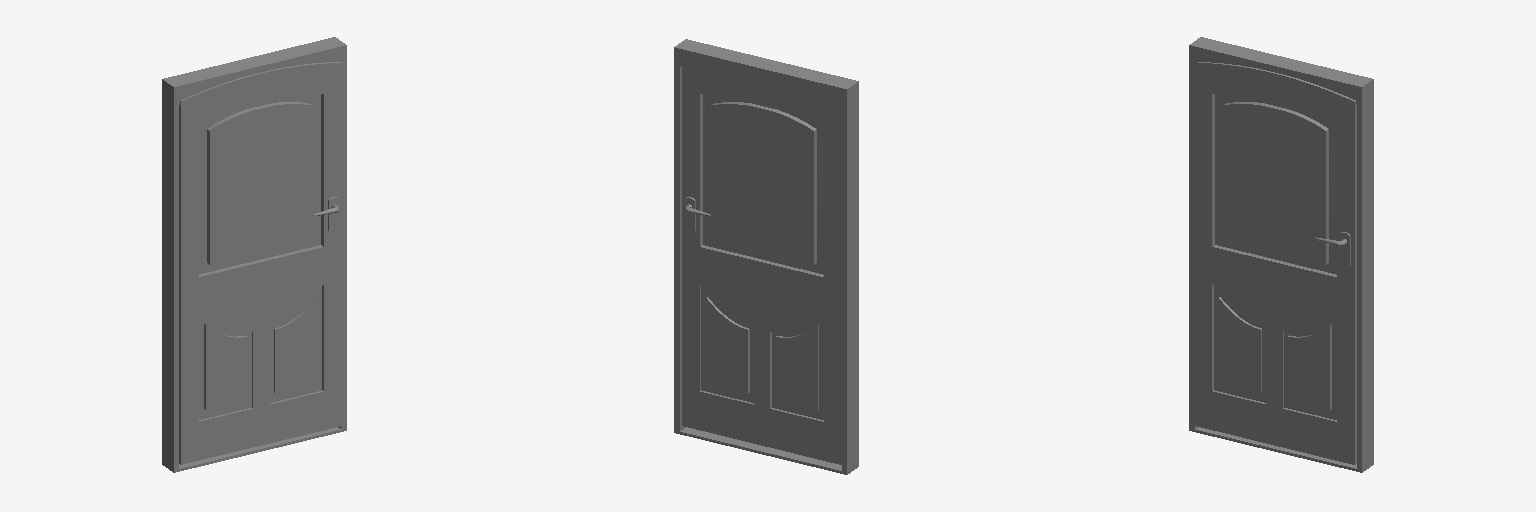
File: door_in.obj
The picture shows the model from 3 angles: view 1: azimuth 30°, elevation 25°; view 2: azimuth 150°, elevation 25°; view 3: azimuth 330°, elevation 25°; orthographic projection.
Parts seen in each view (by area): view 1: door, 7al2; view 2: door, 7al2; view 3: door, 7al2.
Boxes of the visible parts, x1,y1,x2,y2 form: door: [179, 62, 341, 464]; 7al2: [162, 37, 346, 472]; door: [682, 67, 841, 464]; 7al2: [674, 39, 858, 474]; door: [1194, 62, 1356, 464]; 7al2: [1189, 37, 1373, 472].
Bounding box in the file's own units: 46.35 × 98.71 × 11.01.